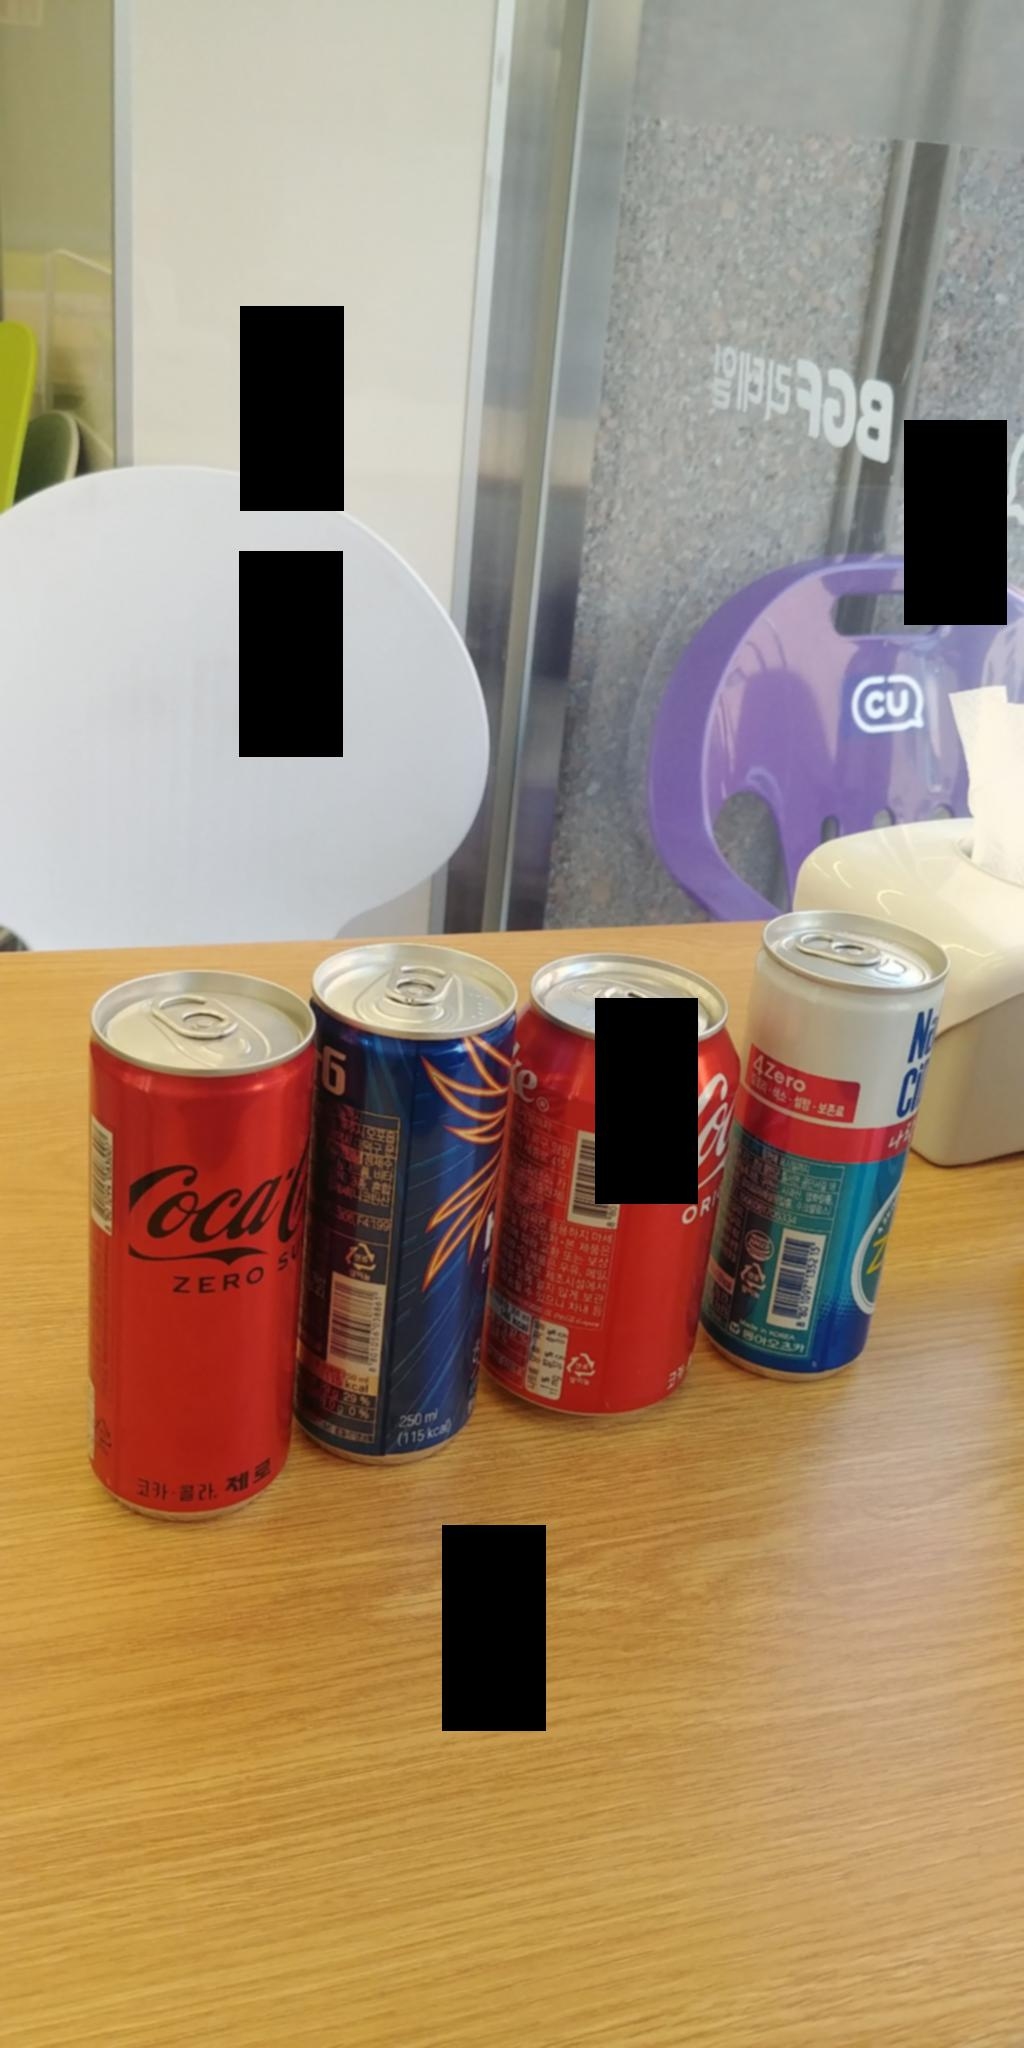cocacola: (513, 964, 704, 1462)
hotsix_org: (287, 926, 503, 1451)
narangdcider: (716, 837, 970, 1394)
